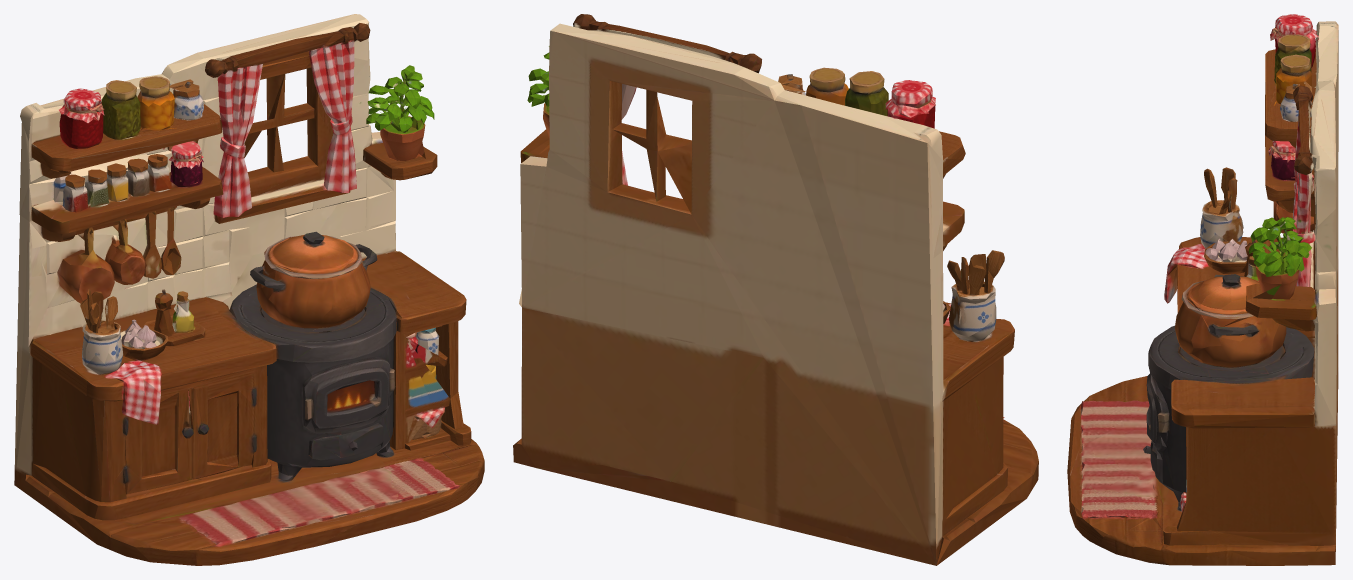
File: mutfak.glb
3 views of the same model, side by side, from view 1: azimuth 30°, elevation 25°; view 2: azimuth 150°, elevation 25°; view 3: azimuth 270°, elevation 25° (orthographic). The views are drawn at different scales.
Parts seen in each view (by area): view 1: output_unwrapped; view 2: output_unwrapped; view 3: output_unwrapped.
Part boxes in pixels (box(x1,y1,x2,y2)): output_unwrapped: box(14, 14, 484, 565); output_unwrapped: box(513, 14, 1038, 565); output_unwrapped: box(1067, 14, 1338, 565).
Bounding box in the file's own units: 1.89 × 1.86 × 1.18.
1 material, 1 textured.
